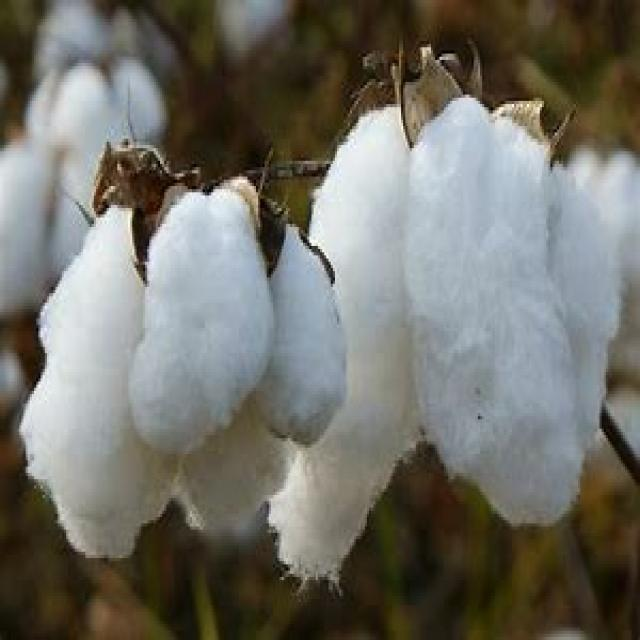Matured Cotton Boll: (267, 81, 623, 568), (30, 152, 349, 560)
